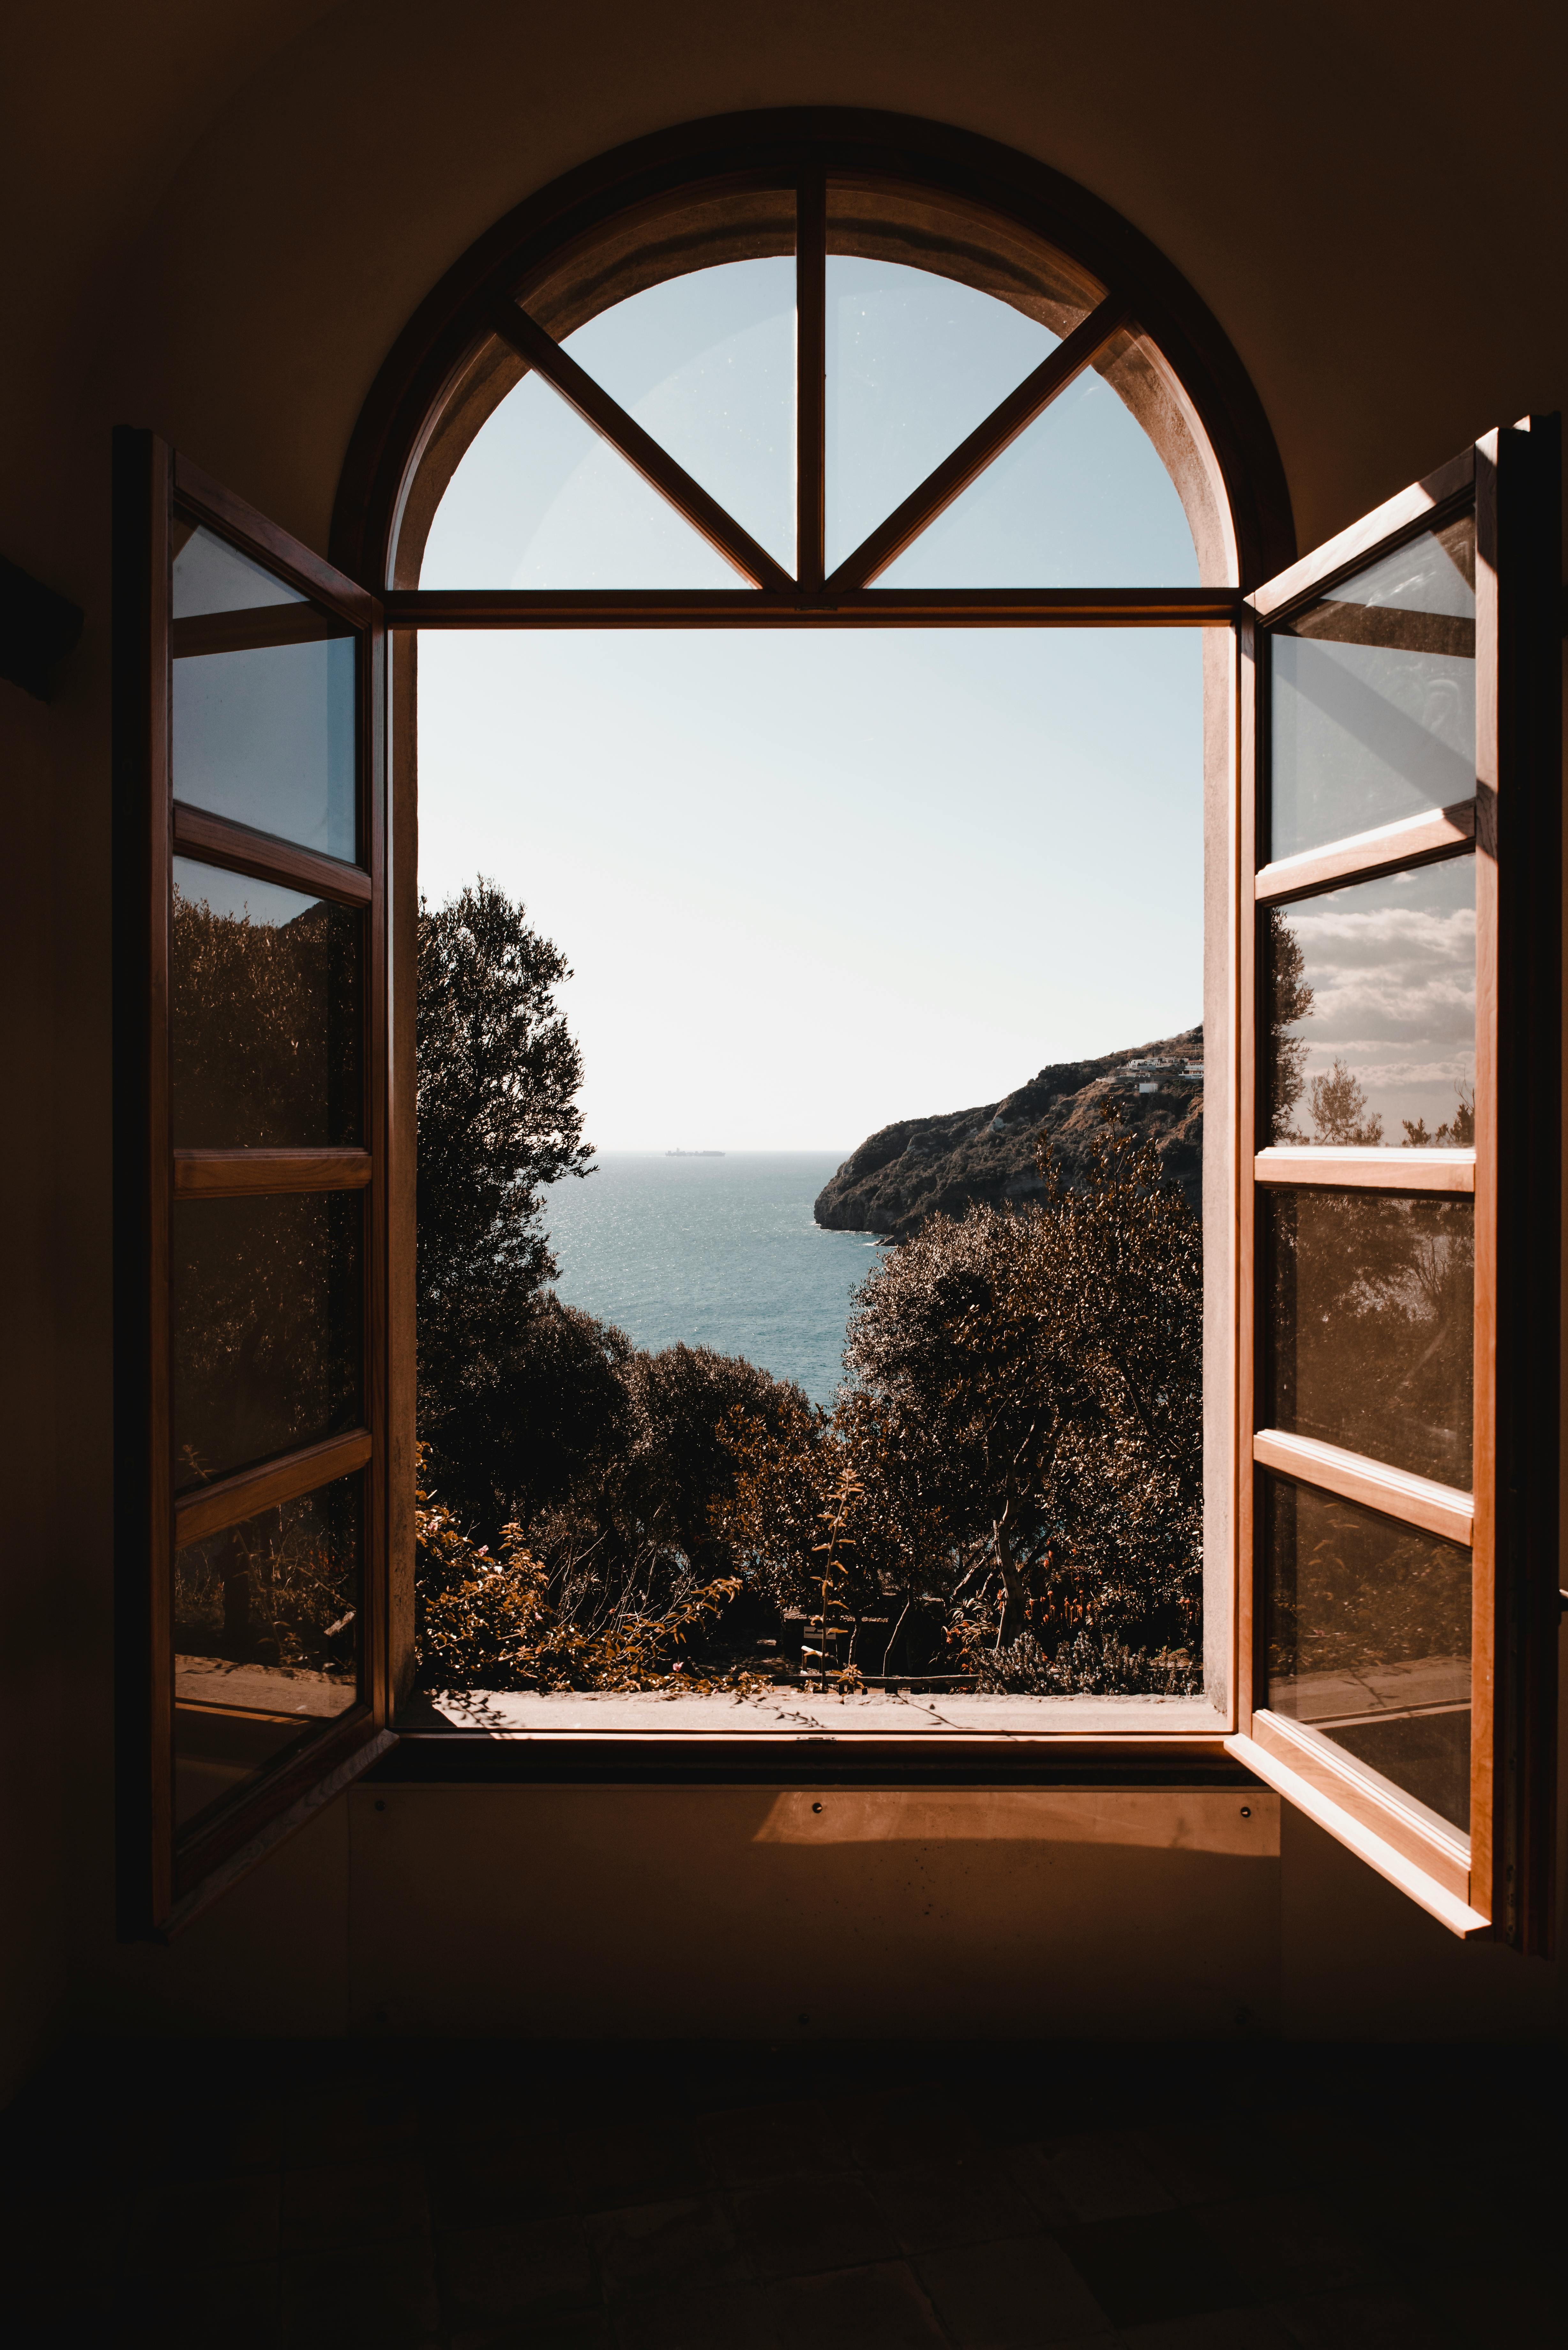Window: (378, 105, 1225, 1729), (150, 479, 404, 1801), (1256, 607, 1468, 1897)
